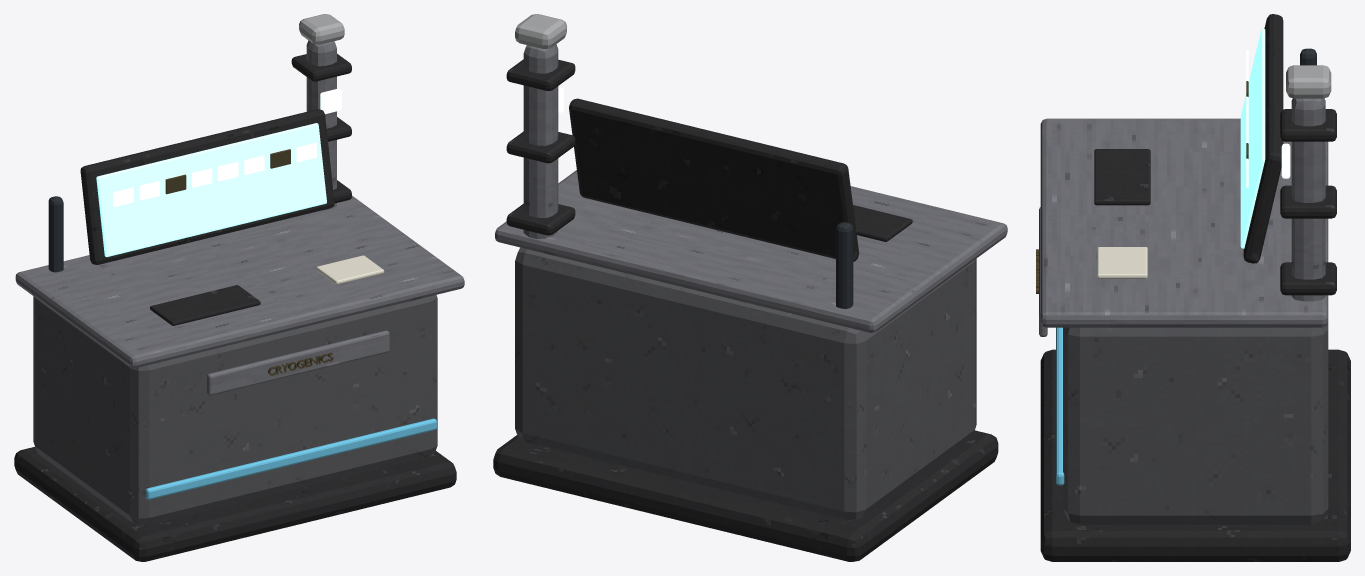
Rendered from decor_med_cryo_monitor_bay.glb.
The picture shows the model from 3 angles, left to right: view 1: azimuth 30°, elevation 25°; view 2: azimuth 150°, elevation 25°; view 3: azimuth 270°, elevation 25°; orthographic projection. The views are drawn at different scales.
Visible parts, largest first — view 1: DEC_MedCryoMonitorBay__Body, DEC_MedCryoMonitorBay__Desk, DEC_MedCryoMonitorBay__Screen_Glow, DEC_MedCryoMonitorBay__Plinth, DEC_MedCryoMonitorBay__Screen_Bezel, DEC_MedCryoMonitorBay__Header_Plate, DEC_MedCryoMonitorBay__Kick_Band, DEC_MedCryoMonitorBay__Keyboard, DEC_MedCryoMonitorBay__Manifold_Post, DEC_MedCryoMonitorBay__Log_Pad, DEC_MedCryoMonitorBay__Manifold_Hose, DEC_MedCryoMonitorBay__Manifold_Cap (+1 smaller); view 2: DEC_MedCryoMonitorBay__Body, DEC_MedCryoMonitorBay__Desk, DEC_MedCryoMonitorBay__Screen_Bezel, DEC_MedCryoMonitorBay__Plinth, DEC_MedCryoMonitorBay__Manifold_Post, DEC_MedCryoMonitorBay__Manifold_Hose, DEC_MedCryoMonitorBay__Manifold_Cap, DEC_MedCryoMonitorBay__Keyboard, DEC_MedCryoMonitorBay__Manifold_Flange_2, DEC_MedCryoMonitorBay__Manifold_Flange_1, DEC_MedCryoMonitorBay__Manifold_Flange_3; view 3: DEC_MedCryoMonitorBay__Body, DEC_MedCryoMonitorBay__Desk, DEC_MedCryoMonitorBay__Plinth, DEC_MedCryoMonitorBay__Manifold_Post, DEC_MedCryoMonitorBay__Screen_Bezel, DEC_MedCryoMonitorBay__Screen_Glow, DEC_MedCryoMonitorBay__Keyboard, DEC_MedCryoMonitorBay__Log_Pad, DEC_MedCryoMonitorBay__Manifold_Cap, DEC_MedCryoMonitorBay__Manifold_Flange_1, DEC_MedCryoMonitorBay__Manifold_Flange_2, DEC_MedCryoMonitorBay__Manifold_Flange_3 (+1 smaller).
Part boxes in pixels (box(x1,y1,x2,y2)): DEC_MedCryoMonitorBay__Body: box(33, 295, 437, 525); DEC_MedCryoMonitorBay__Desk: box(15, 195, 464, 368); DEC_MedCryoMonitorBay__Screen_Glow: box(96, 123, 326, 256); DEC_MedCryoMonitorBay__Plinth: box(14, 447, 456, 561); DEC_MedCryoMonitorBay__Screen_Bezel: box(80, 109, 334, 264); DEC_MedCryoMonitorBay__Header_Plate: box(207, 330, 389, 395); DEC_MedCryoMonitorBay__Kick_Band: box(145, 418, 436, 499); DEC_MedCryoMonitorBay__Keyboard: box(150, 285, 260, 325); DEC_MedCryoMonitorBay__Manifold_Post: box(306, 40, 336, 210); DEC_MedCryoMonitorBay__Log_Pad: box(316, 255, 384, 284); DEC_MedCryoMonitorBay__Manifold_Hose: box(48, 196, 63, 272); DEC_MedCryoMonitorBay__Manifold_Cap: box(299, 14, 344, 44); DEC_MedCryoMonitorBay__Body: box(515, 247, 976, 520); DEC_MedCryoMonitorBay__Desk: box(495, 170, 1007, 332); DEC_MedCryoMonitorBay__Screen_Bezel: box(569, 98, 859, 261); DEC_MedCryoMonitorBay__Plinth: box(493, 430, 998, 561); DEC_MedCryoMonitorBay__Manifold_Post: box(523, 44, 558, 239); DEC_MedCryoMonitorBay__Manifold_Hose: box(836, 222, 853, 308); DEC_MedCryoMonitorBay__Manifold_Cap: box(515, 14, 566, 49); DEC_MedCryoMonitorBay__Keyboard: box(853, 205, 912, 241); DEC_MedCryoMonitorBay__Manifold_Flange_2: box(506, 131, 575, 163); DEC_MedCryoMonitorBay__Manifold_Flange_1: box(506, 204, 575, 235); DEC_MedCryoMonitorBay__Manifold_Flange_3: box(506, 59, 575, 90); DEC_MedCryoMonitorBay__Body: box(1063, 322, 1328, 524); DEC_MedCryoMonitorBay__Desk: box(1040, 118, 1328, 327); DEC_MedCryoMonitorBay__Plinth: box(1040, 349, 1350, 561); DEC_MedCryoMonitorBay__Manifold_Post: box(1291, 98, 1325, 301); DEC_MedCryoMonitorBay__Screen_Bezel: box(1243, 14, 1283, 263); DEC_MedCryoMonitorBay__Screen_Glow: box(1240, 28, 1265, 248); DEC_MedCryoMonitorBay__Keyboard: box(1094, 149, 1150, 205); DEC_MedCryoMonitorBay__Log_Pad: box(1097, 247, 1147, 278); DEC_MedCryoMonitorBay__Manifold_Cap: box(1286, 65, 1331, 98); DEC_MedCryoMonitorBay__Manifold_Flange_1: box(1280, 262, 1336, 295); DEC_MedCryoMonitorBay__Manifold_Flange_2: box(1280, 185, 1336, 218); DEC_MedCryoMonitorBay__Manifold_Flange_3: box(1280, 109, 1336, 141).
Size of the model in its own units: 1.66 by 1.87 by 1.12.
11 materials, 4 textured.
